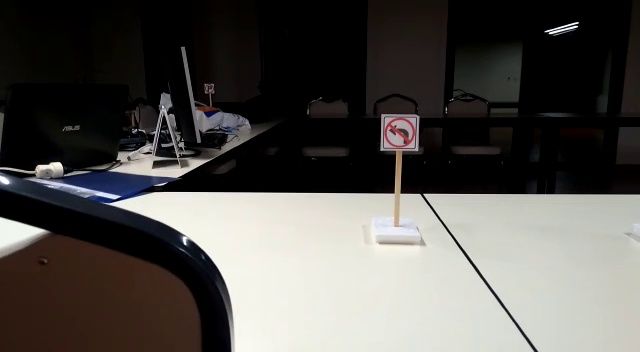sola_donulmez: (383, 114, 418, 149)
